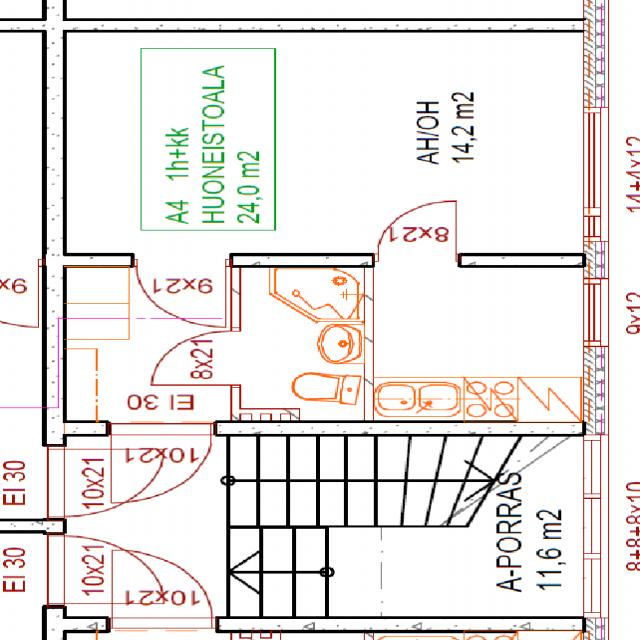door: (111, 422, 210, 502), (137, 259, 225, 327), (378, 201, 456, 261), (153, 332, 239, 384)
